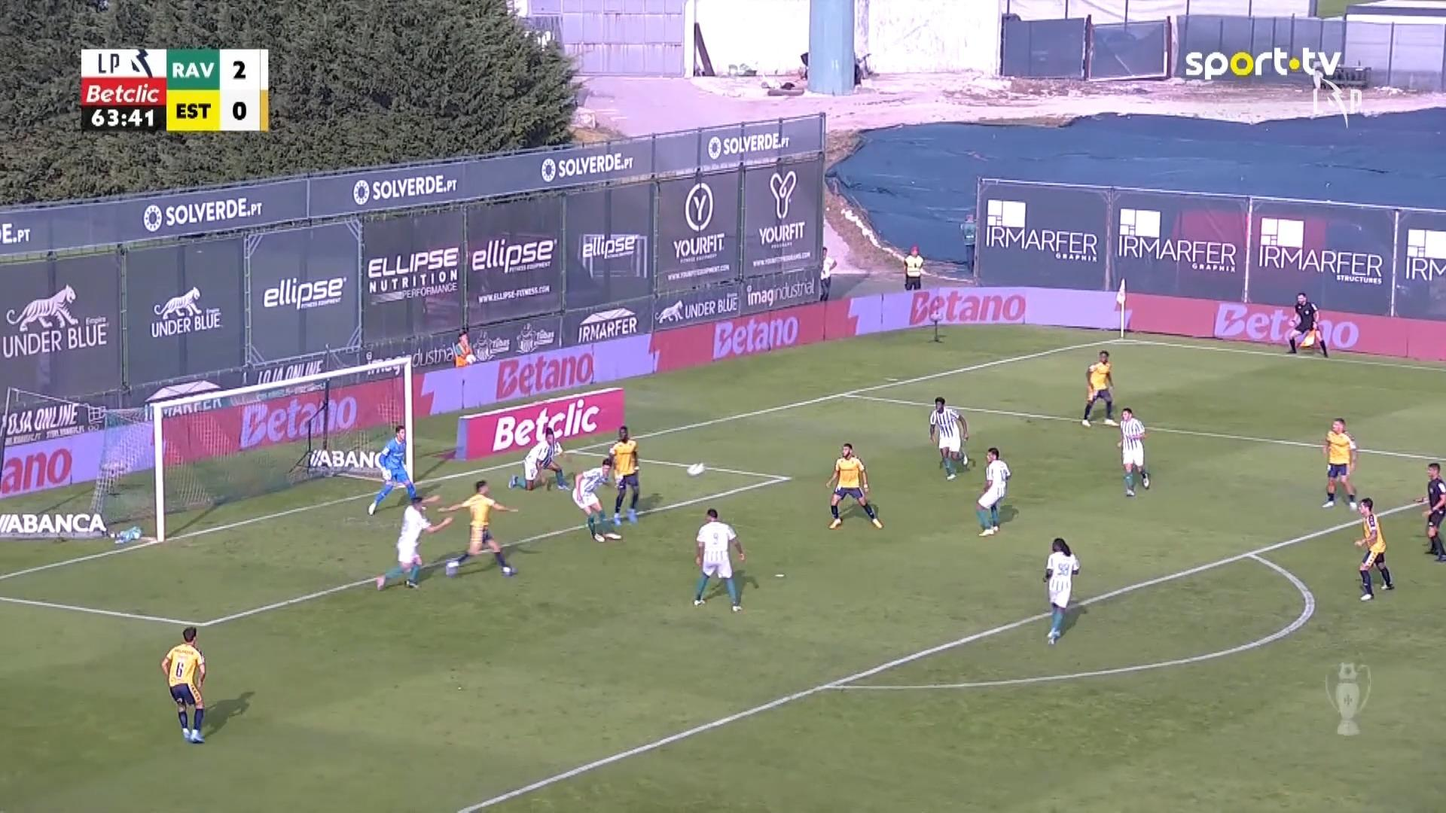ball: (686, 462, 704, 476)
goalkeeper: (366, 424, 420, 516)
player: (436, 479, 519, 577), (374, 493, 453, 591), (691, 507, 746, 613), (160, 625, 207, 743), (824, 442, 883, 529), (571, 456, 622, 541), (1353, 496, 1394, 600), (507, 424, 569, 492), (1042, 536, 1079, 645), (928, 395, 972, 480), (1321, 417, 1358, 509), (606, 425, 640, 525), (975, 446, 1010, 536), (1116, 406, 1150, 496), (1081, 349, 1118, 426)
referee: (1285, 291, 1329, 357), (1417, 461, 1444, 562)
